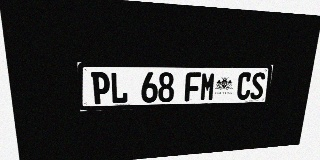6: (141, 72, 158, 103)
8: (158, 72, 175, 102)
C: (236, 72, 252, 100)
F: (184, 72, 201, 101)
L: (110, 72, 128, 104)
M: (200, 72, 216, 101)
P: (91, 72, 110, 104)
S: (250, 72, 266, 99)
